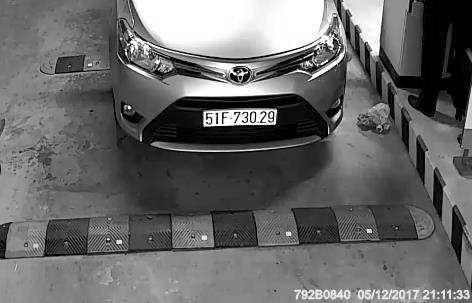License-plate: (193, 98, 286, 141)
